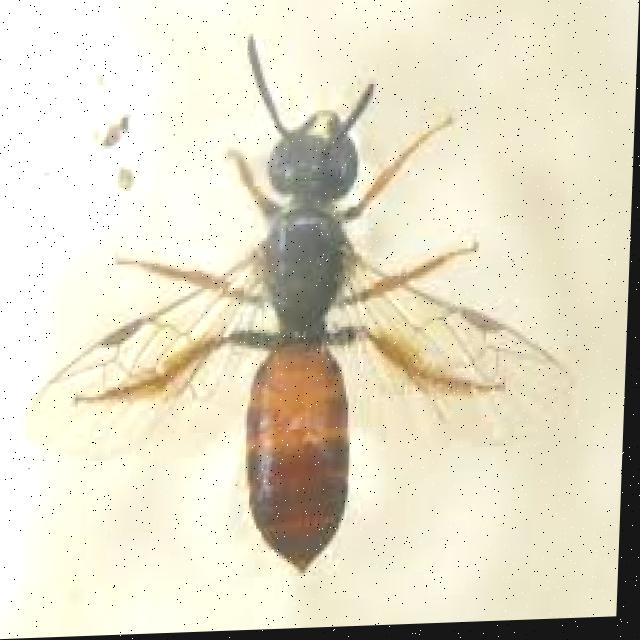Allodapula: (23, 19, 594, 581)
